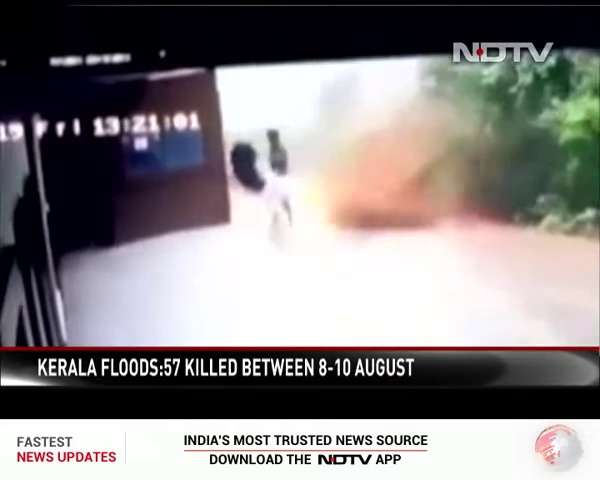person: (261, 129, 296, 232)
